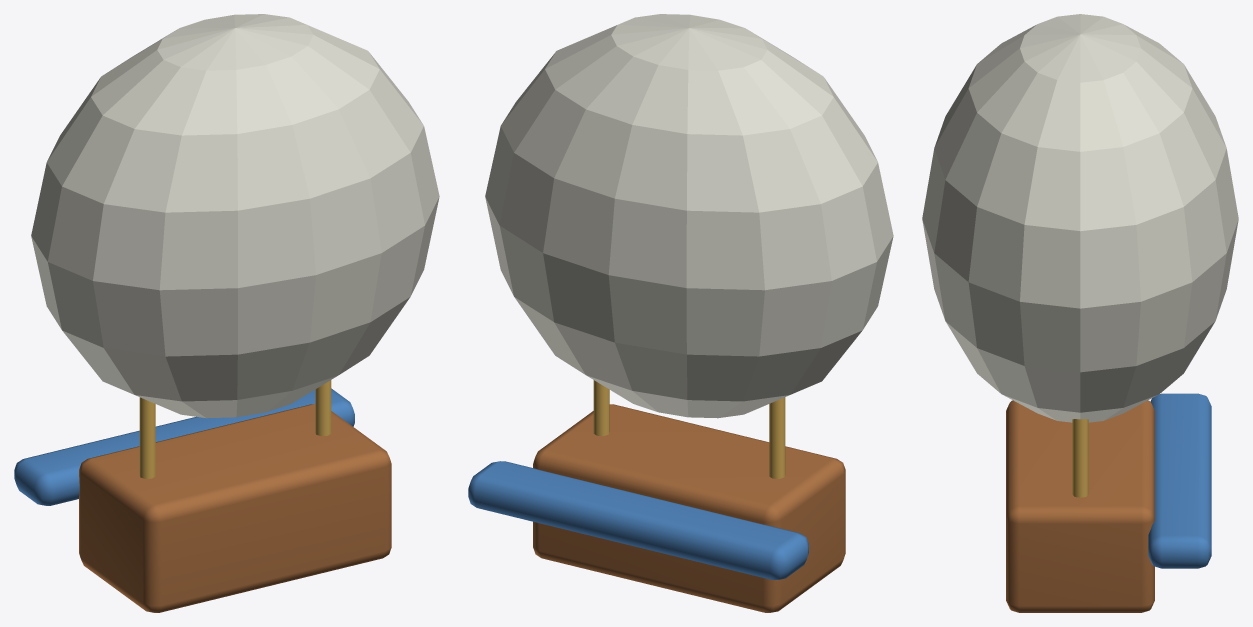
Rendered from greece-airship-kite.glb.
3 views of the same model, side by side, from view 1: azimuth 30°, elevation 25°; view 2: azimuth 150°, elevation 25°; view 3: azimuth 270°, elevation 25° (orthographic).
Visible parts, largest first — view 1: そらぶねの ふうせん, そらぶねの かご, あおい つばさ, そらぶねの つな, そらぶねの つな.001; view 2: そらぶねの ふうせん, そらぶねの かご, あおい つばさ, そらぶねの つな, そらぶねの つな.001; view 3: そらぶねの ふうせん, そらぶねの かご, あおい つばさ, そらぶねの つな.001.
Boxes of the visible parts, x1,y1,x2,y2 form: そらぶねの ふうせん: [31, 14, 439, 418]; そらぶねの かご: [79, 404, 391, 612]; あおい つばさ: [14, 388, 354, 505]; そらぶねの つな: [139, 397, 155, 478]; そらぶねの つな.001: [315, 380, 331, 436]; そらぶねの ふうせん: [485, 14, 893, 418]; そらぶねの かご: [533, 404, 845, 612]; あおい つばさ: [468, 461, 808, 580]; そらぶねの つな: [769, 397, 785, 478]; そらぶねの つな.001: [593, 380, 609, 436]; そらぶねの ふうせん: [922, 14, 1238, 422]; そらぶねの かご: [1006, 400, 1154, 612]; あおい つばさ: [1148, 393, 1211, 568]; そらぶねの つな.001: [1072, 419, 1088, 497].
Size of the model in its own units: 0.94 by 1.28 by 0.7.
